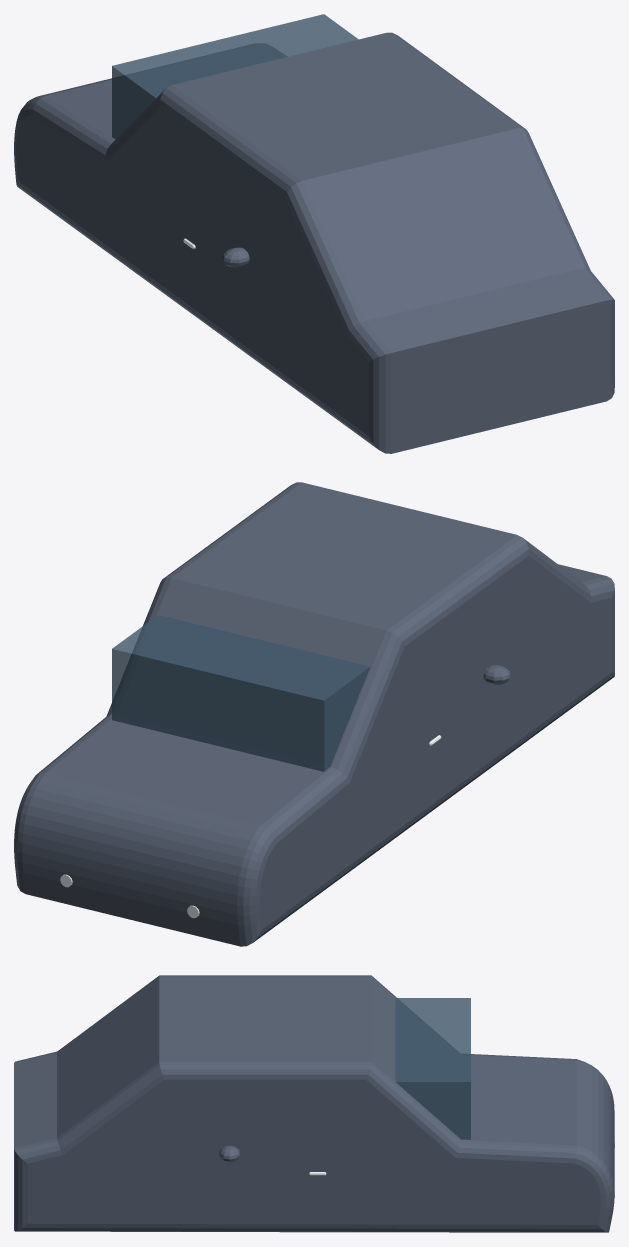
The model's file is veh_aurelia.glb.
3 views of the same model, one above another, from view 1: azimuth 30°, elevation 25°; view 2: azimuth 150°, elevation 25°; view 3: azimuth 270°, elevation 25° (orthographic). The views are drawn at different scales.
Visible parts, largest first — view 1: veh_aurelia; view 2: veh_aurelia; view 3: veh_aurelia.
Part boxes in pixels (x1=…): veh_aurelia: x1=14, y1=14, x2=614, y2=453; veh_aurelia: x1=14, y1=482, x2=614, y2=946; veh_aurelia: x1=14, y1=975, x2=614, y2=1232.
Size of the model in its own units: 2.17 by 1.51 by 4.86.
